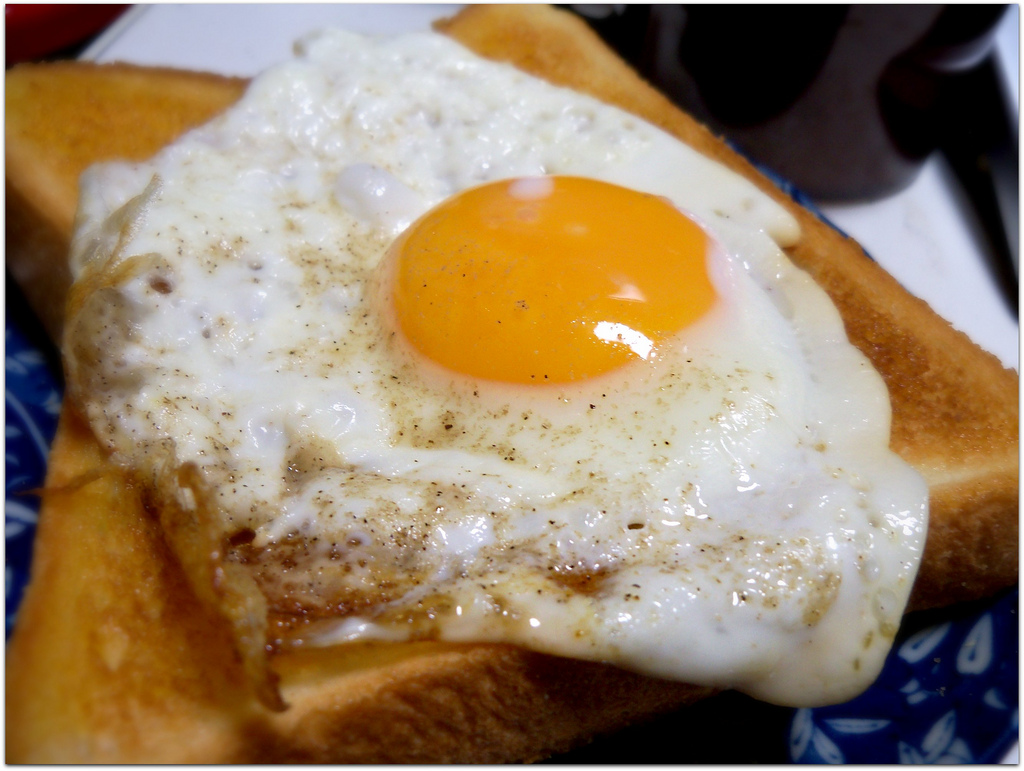fried egg: (146, 105, 834, 709)
